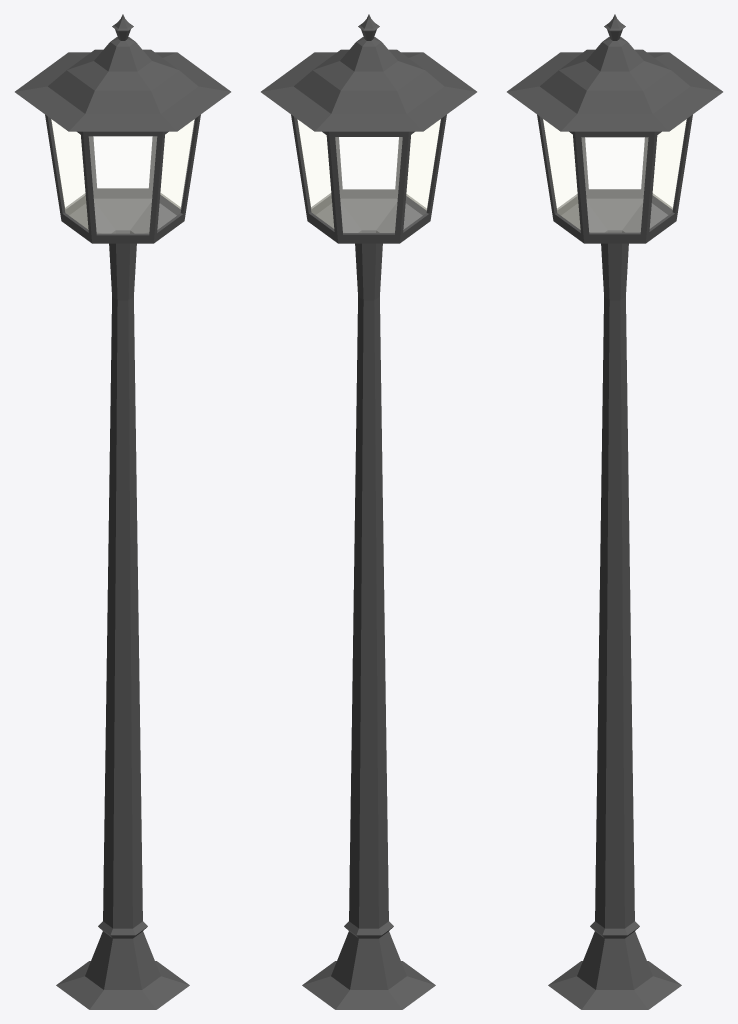
The model's file is streetlamp.fbx.
The picture shows the model from 3 angles, left to right: view 1: azimuth 30°, elevation 25°; view 2: azimuth 150°, elevation 25°; view 3: azimuth 270°, elevation 25°; orthographic projection.
Visible parts, largest first — view 1: Cylinder; view 2: Cylinder; view 3: Cylinder.
Boxes of the visible parts, x1=… form: Cylinder: x1=15, y1=14, x2=230, y2=1009; Cylinder: x1=261, y1=14, x2=476, y2=1009; Cylinder: x1=507, y1=14, x2=722, y2=1009.
Bounding box in the file's own units: 306 × 1741 × 353.
